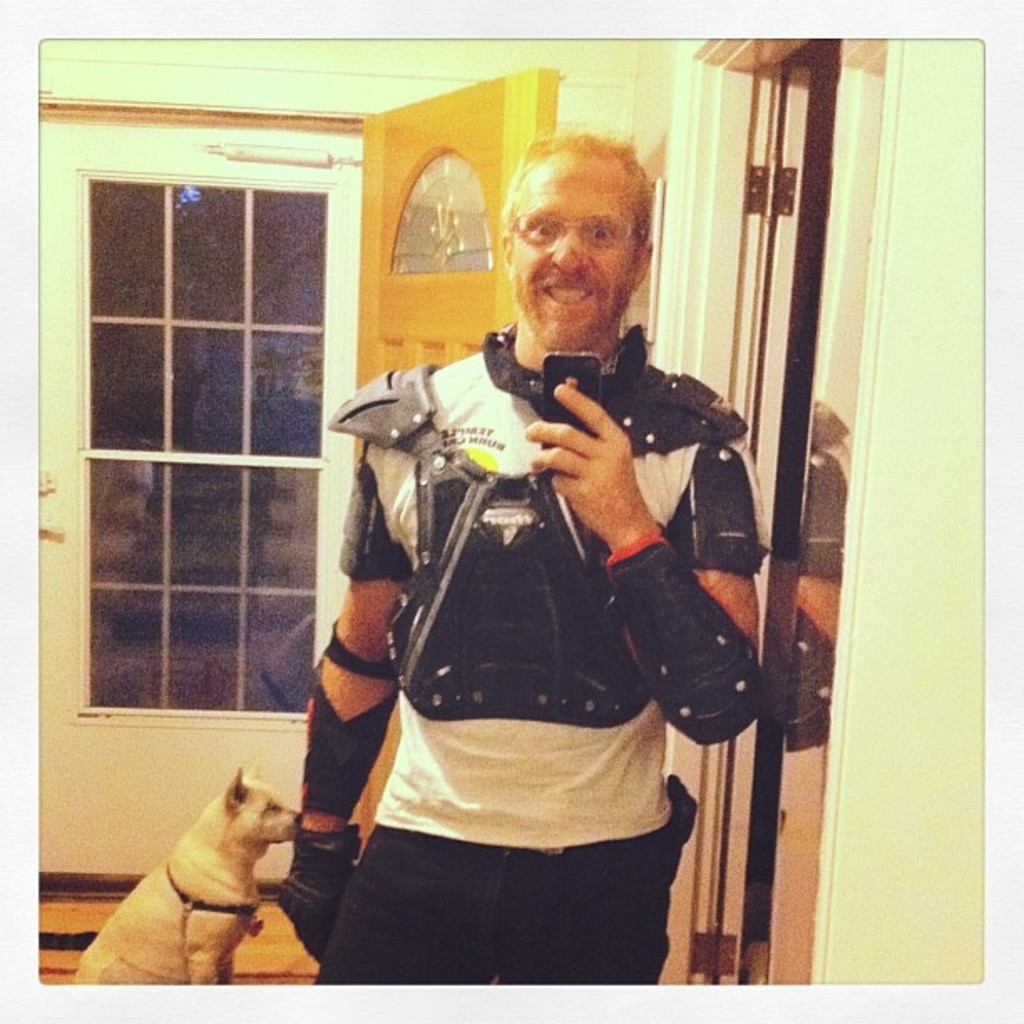Human_hand: (520, 403, 671, 537), (268, 847, 358, 969)
